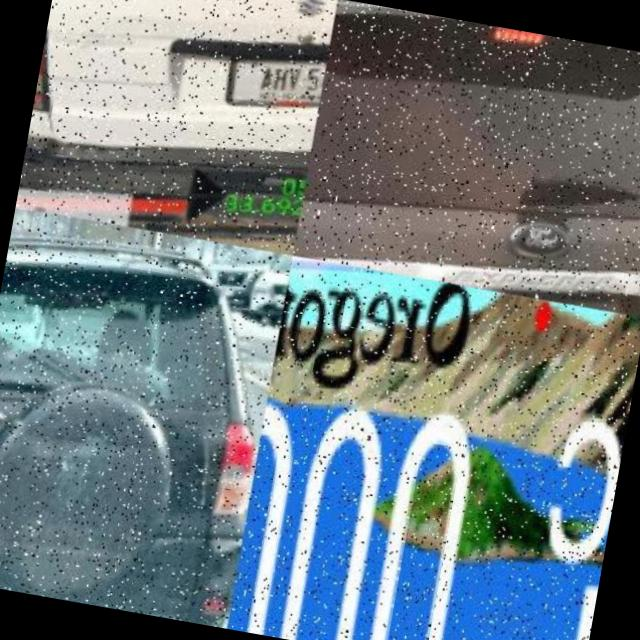LicensePlate: (227, 359, 538, 640), (234, 38, 328, 123)
